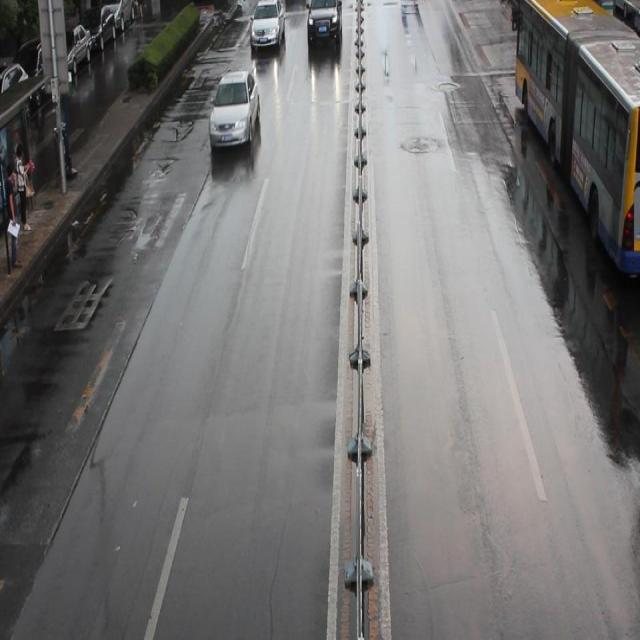car: (209, 69, 259, 149), (249, 1, 285, 55), (305, 1, 341, 43)
van: (514, 1, 640, 273)
